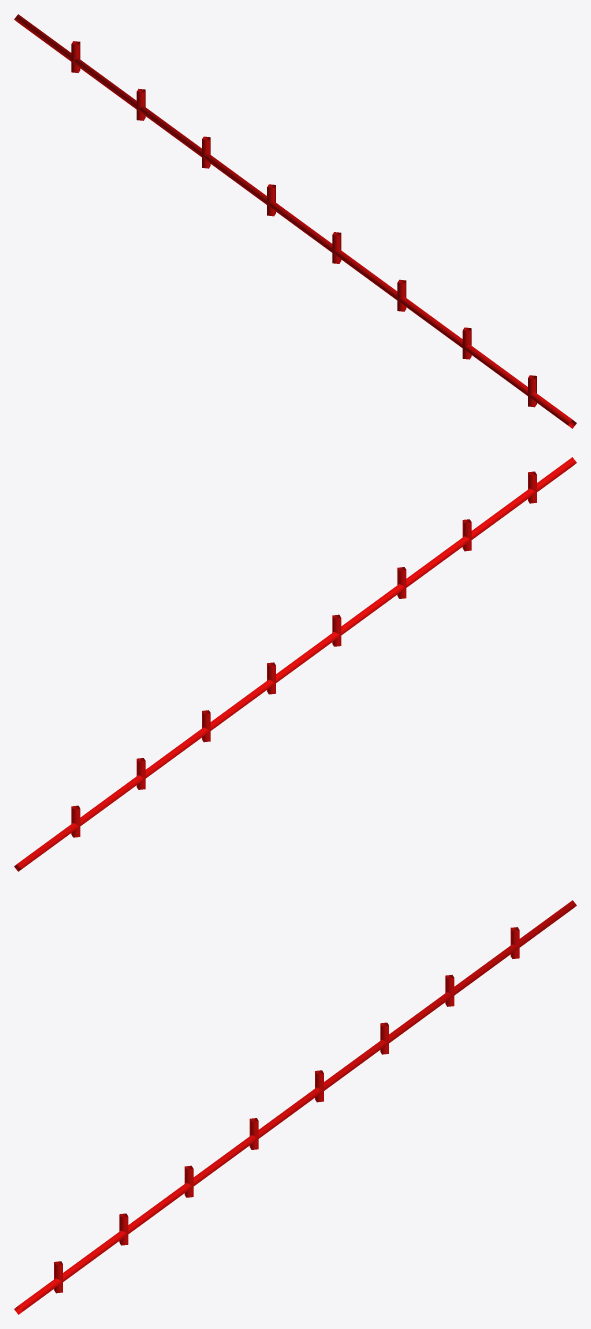
Rendered from SM_Park_Gate_01_Frame_left.FBX.
3 views of the same model, one above another, from view 1: azimuth 30°, elevation 25°; view 2: azimuth 150°, elevation 25°; view 3: azimuth 330°, elevation 25° (orthographic).
Parts seen in each view (by area): view 1: SM_Park_Gate_01_Frame_left_LOD0; view 2: SM_Park_Gate_01_Frame_left_LOD0; view 3: SM_Park_Gate_01_Frame_left_LOD0.
Boxes of the visible parts, left/top/right/bottom form: SM_Park_Gate_01_Frame_left_LOD0: left=14, top=14, right=576, bottom=428; SM_Park_Gate_01_Frame_left_LOD0: left=14, top=457, right=576, bottom=871; SM_Park_Gate_01_Frame_left_LOD0: left=14, top=900, right=576, bottom=1314.
Size of what is drawn, in the model's own units: 2.34 by 251 by 7.09.
